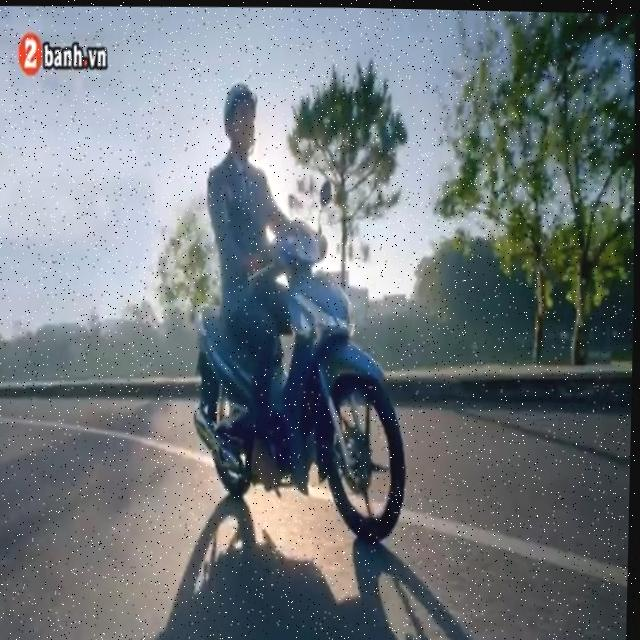motorcycle: (183, 210, 423, 553)
